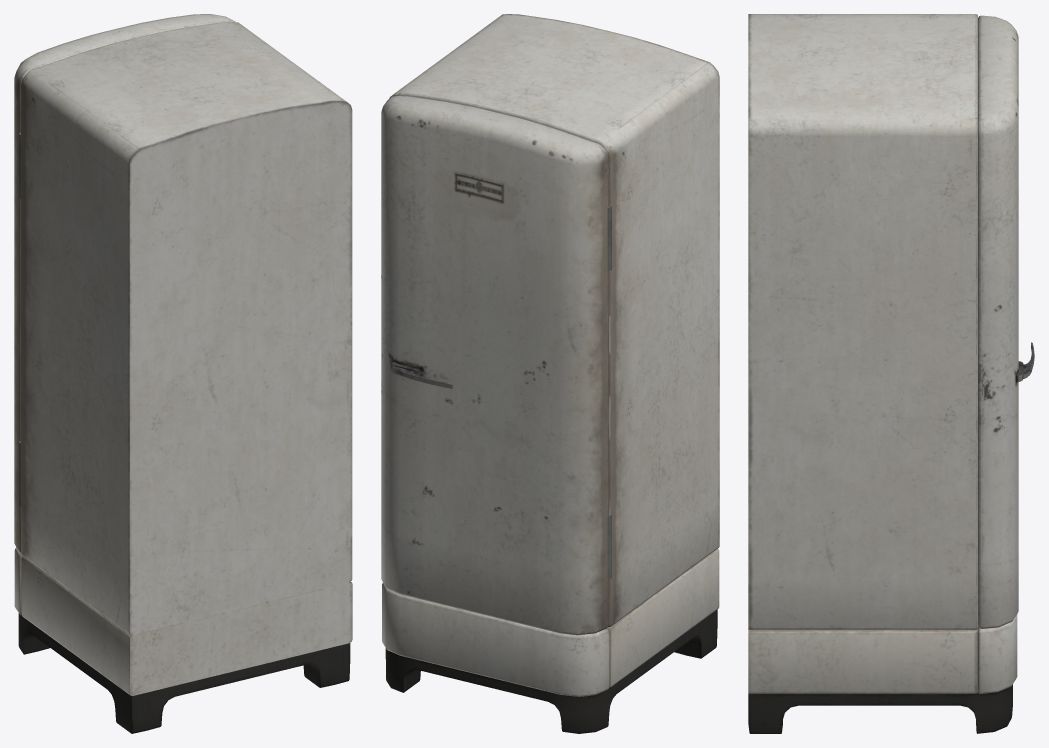
File: HarlemFridge.glb
3 views of the same model, side by side, from view 1: azimuth 30°, elevation 25°; view 2: azimuth 150°, elevation 25°; view 3: azimuth 270°, elevation 25° (orthographic). The views are drawn at different scales.
Parts seen in each view (by area): view 1: Plane_004, Cube_004; view 2: Cube_004, Plane_004; view 3: Plane_004, Cube_004.
Part boxes in pixels (x1,y1,x2,y2): Plane_004: (14,22,352,733); Cube_004: (14,14,235,552); Cube_004: (381,96,611,635); Plane_004: (382,14,719,733); Plane_004: (748,14,1017,733); Cube_004: (978,15,1034,628).
Size of the model in its own units: 0.7129 by 1.8 by 0.7521.
1 material, 1 textured.
